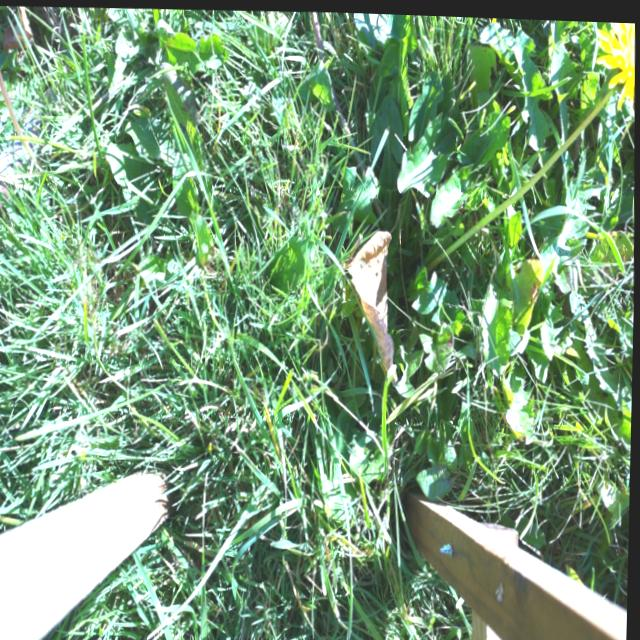base: (420, 243, 446, 281)
